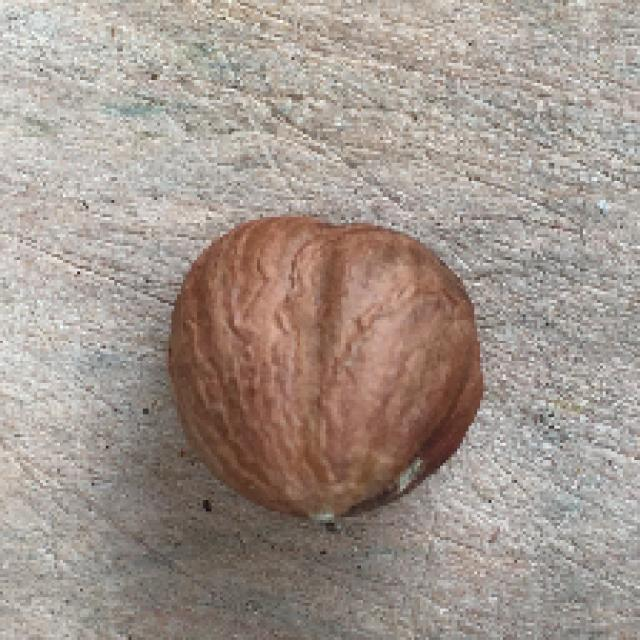hazelnut: (163, 205, 491, 531)
